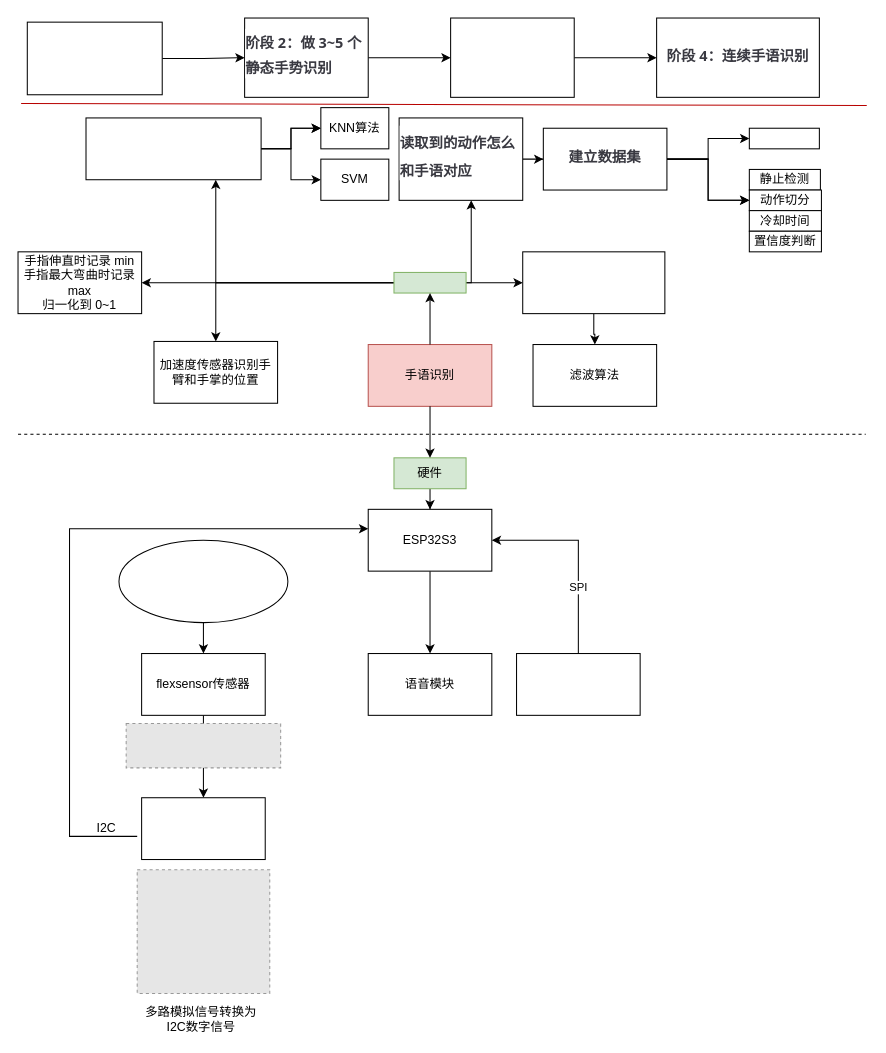
Some shapes in this 886 by 1053 pixel diagram are drawn without their labels. Grey dashed boxes stand in for pictures. Here are the shapes that lost their labels. From the top down, the box of each, then its label:
(26, 21, 162, 95): 阶段 1：读取并显示传感器数据
(450, 17, 574, 97): 阶段 3：做动态手势识别
(85, 117, 261, 180): 什么时候一个手语开始？ 什么时候一个手语结束？ 两个动作之间的过渡动作怎么排除？
(748, 127, 819, 149): 空白类
(393, 271, 466, 293): 软件
(522, 251, 665, 314): Flex Sensor 有噪声和漂移
(118, 539, 288, 623): 五个手指弯曲程度每个手指多个关节 弯曲程度
(516, 653, 640, 715): 加速度姿态传感器
(141, 797, 265, 860): ads1115数模转换
